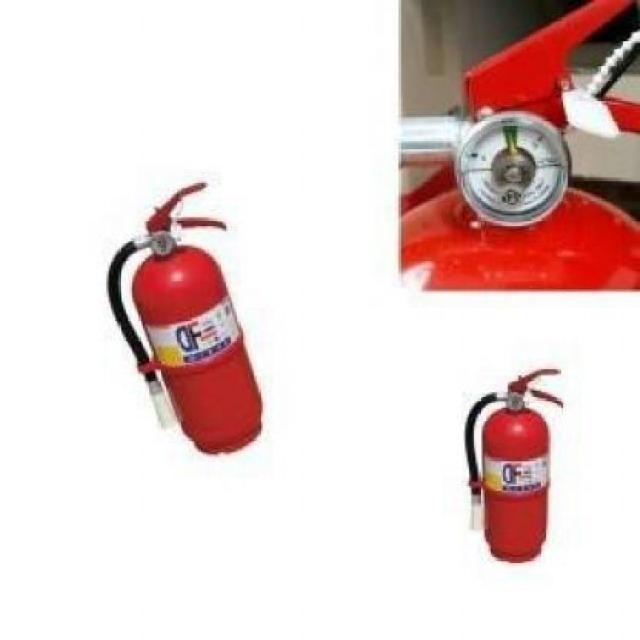fire extinguisher: (398, 0, 640, 289), (106, 181, 265, 457), (465, 368, 563, 563)
